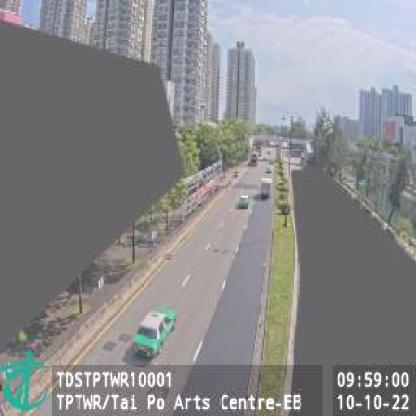Car: (132, 304, 177, 360), (238, 193, 250, 208)
Truck: (259, 174, 271, 200)
